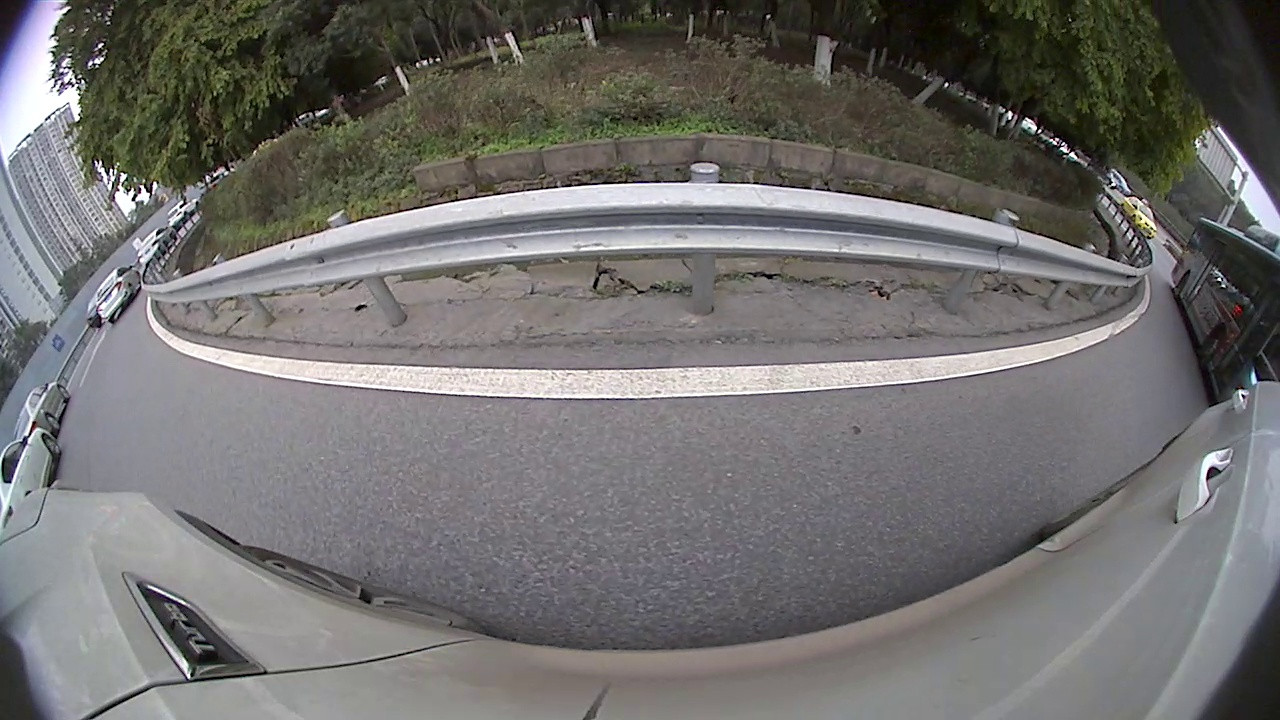car: (133, 155, 266, 252), (217, 110, 354, 180), (877, 119, 981, 190), (1180, 350, 1238, 434), (1032, 200, 1096, 261)
front: (293, 136, 321, 162), (197, 196, 218, 226), (965, 174, 979, 191), (1214, 421, 1230, 435)
rear: (141, 233, 161, 254), (925, 156, 942, 179), (1204, 405, 1222, 425)
